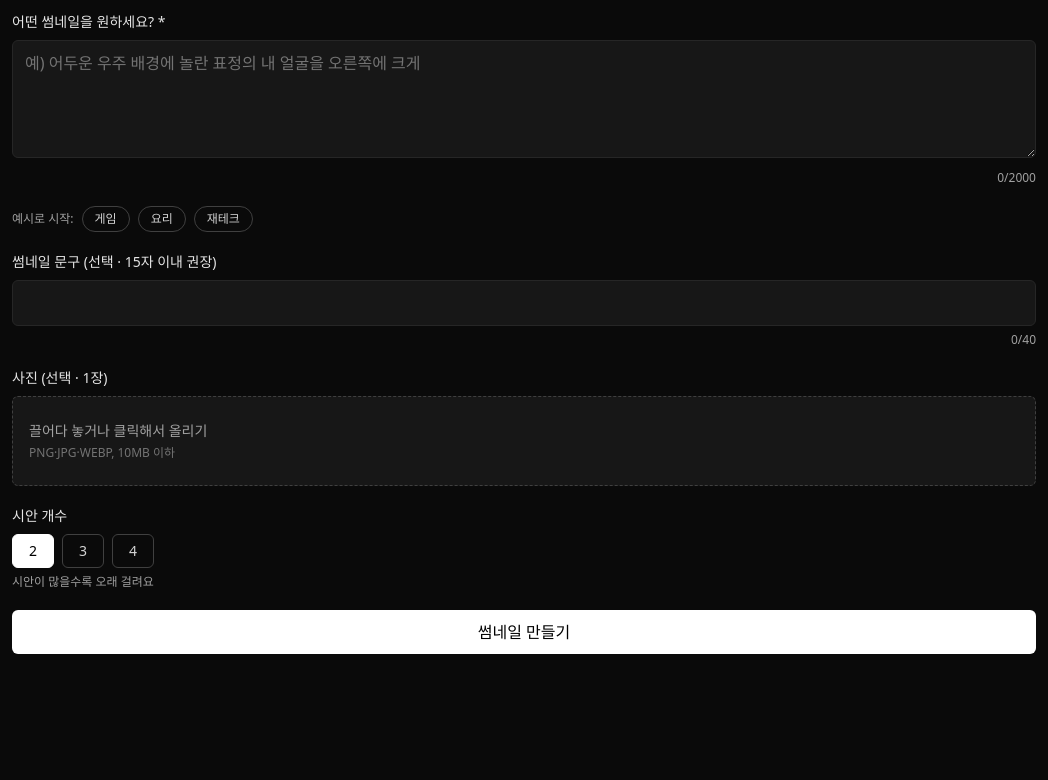
Test: 예시 칩 › 누르면 설명과 문구를 채우고 칩이 사라진다
Click the button "게임".
click(106, 219)  # box [82, 206, 130, 232]
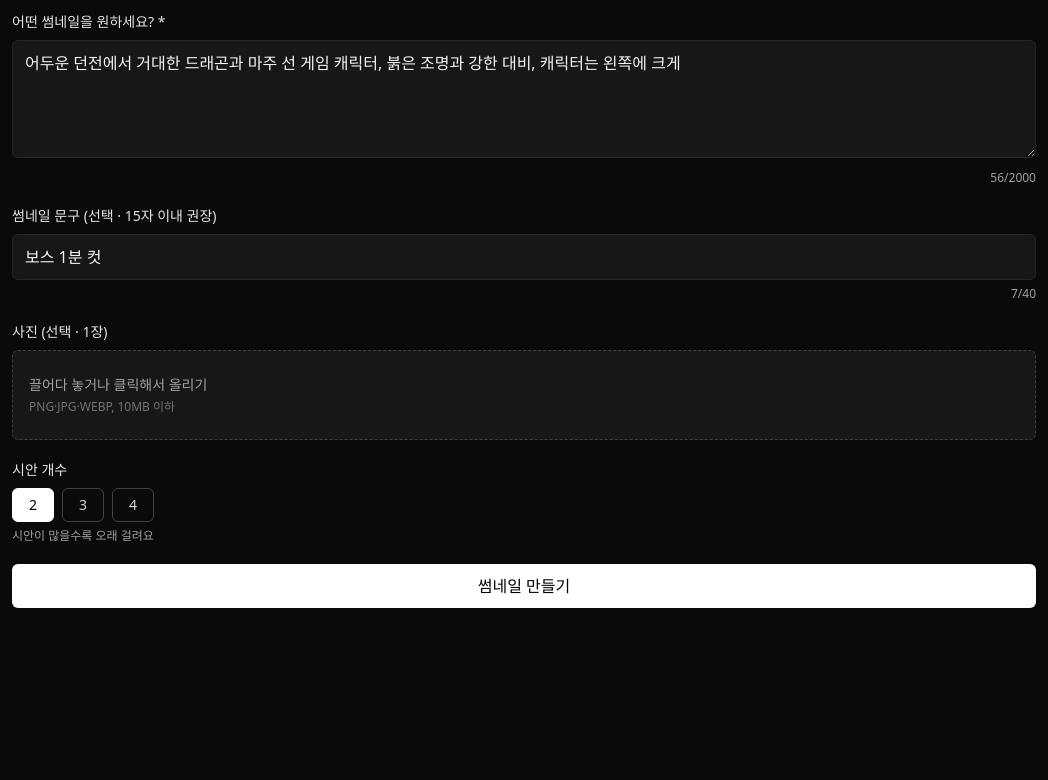
Result: the text box labelled "어떤 썸네일을 원하세요? *" is not empty at [12, 40, 1036, 158]
Result: the field labelled "썸네일 문구 (선택 · 15자 이내 권장)" is not empty at [12, 234, 1036, 280]
Result: the button "요리" is gone
